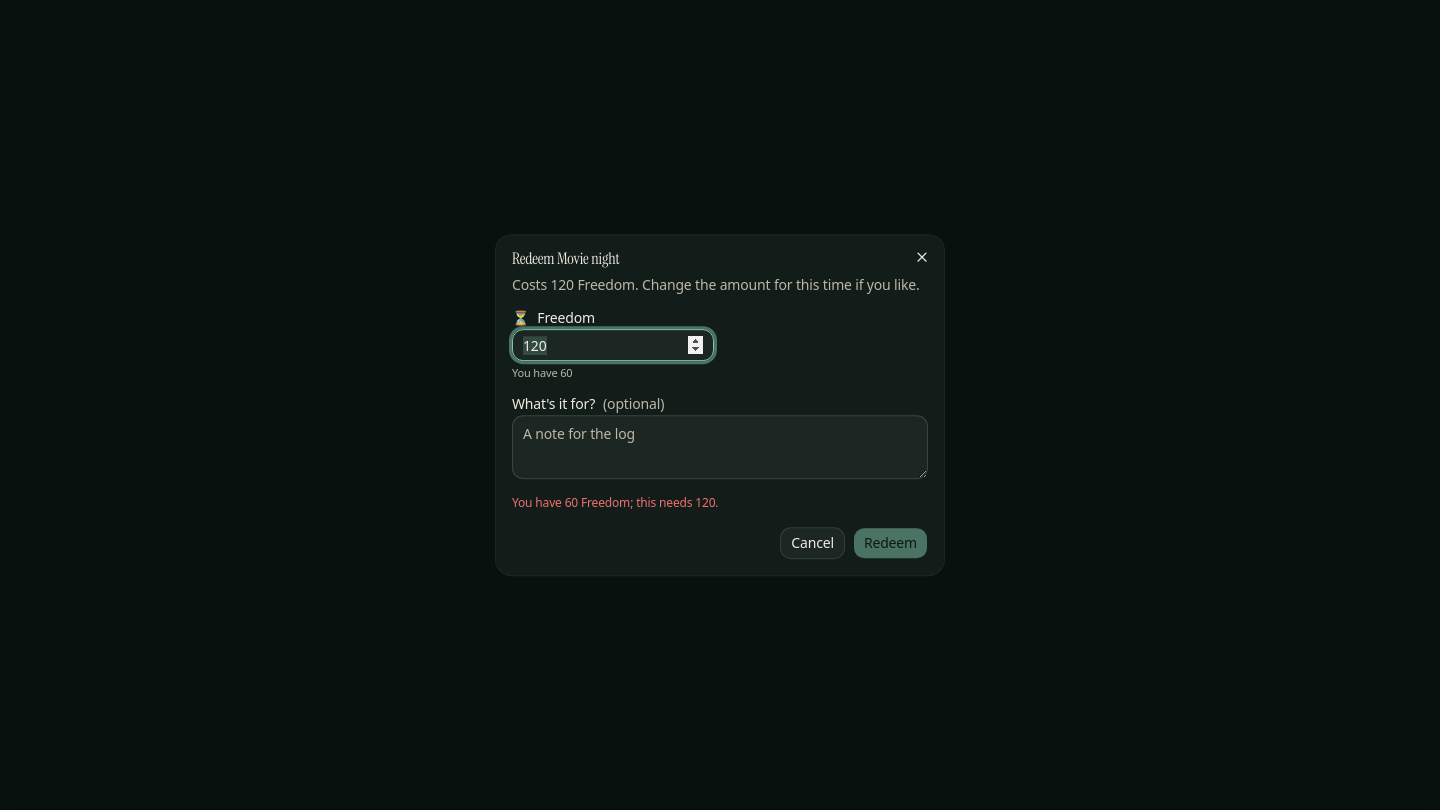
Test case: RedeemDialog › blocks Redeem until the wallet covers it, saying why
Check: the text "You have 60 Freedom; this needs 120." is shown, box [512, 494, 718, 511]
Check: the button "Redeem" is disabled, box [853, 527, 928, 559]
Replace the text in the number field labelled "⏳ Freedom" with "45" at [613, 345], box [512, 329, 714, 361]
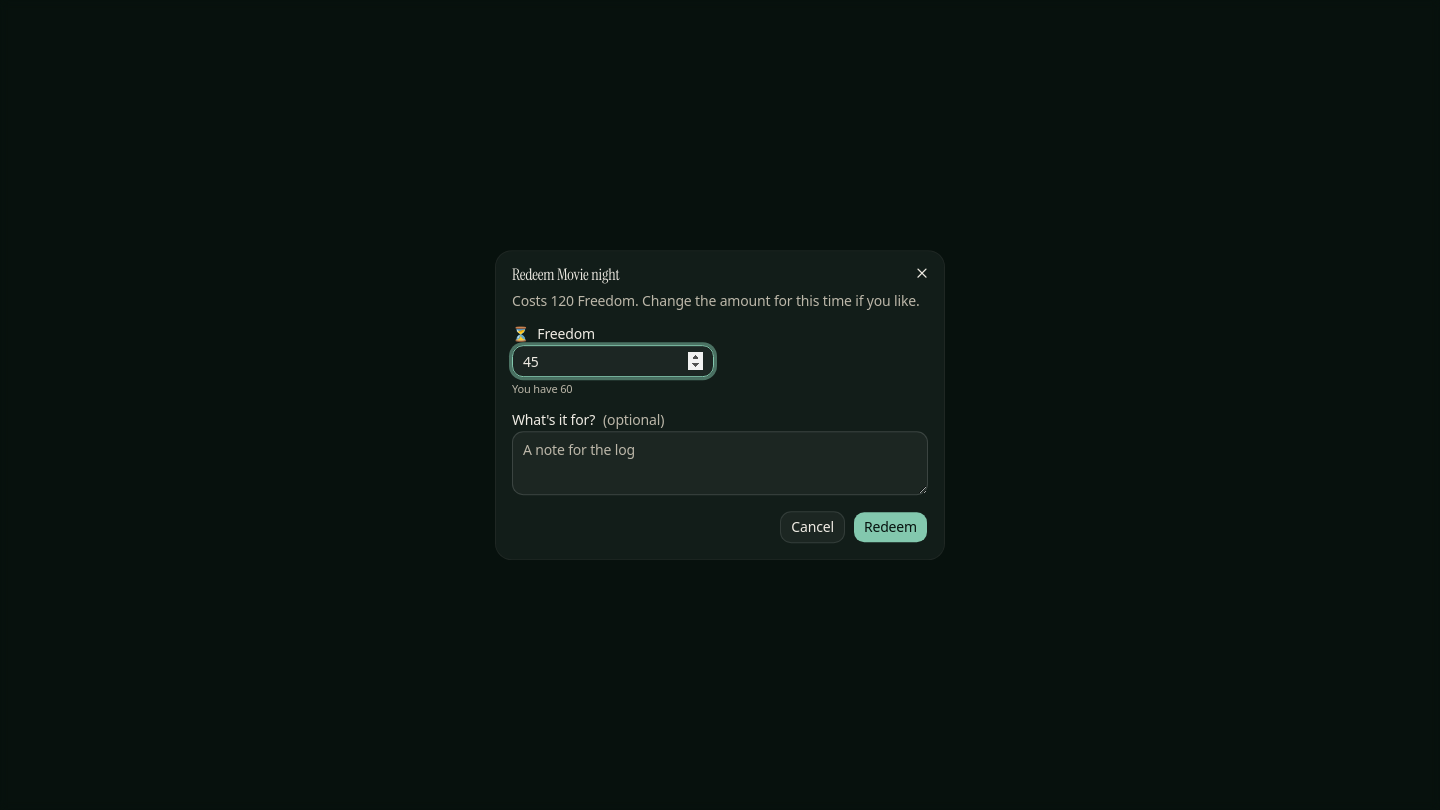
Check: the button "Redeem" is enabled, box [853, 511, 928, 543]
